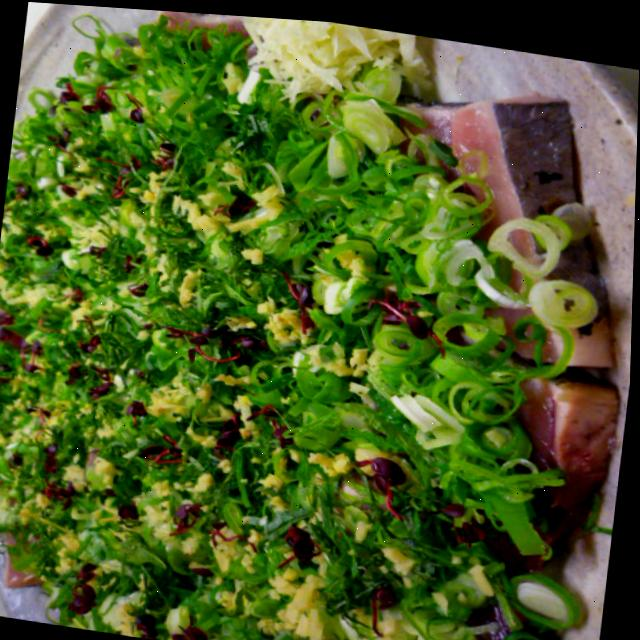熟制海鲜: (270, 15, 640, 640)
